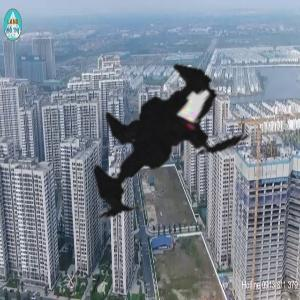drone: (33, 18, 300, 286)
